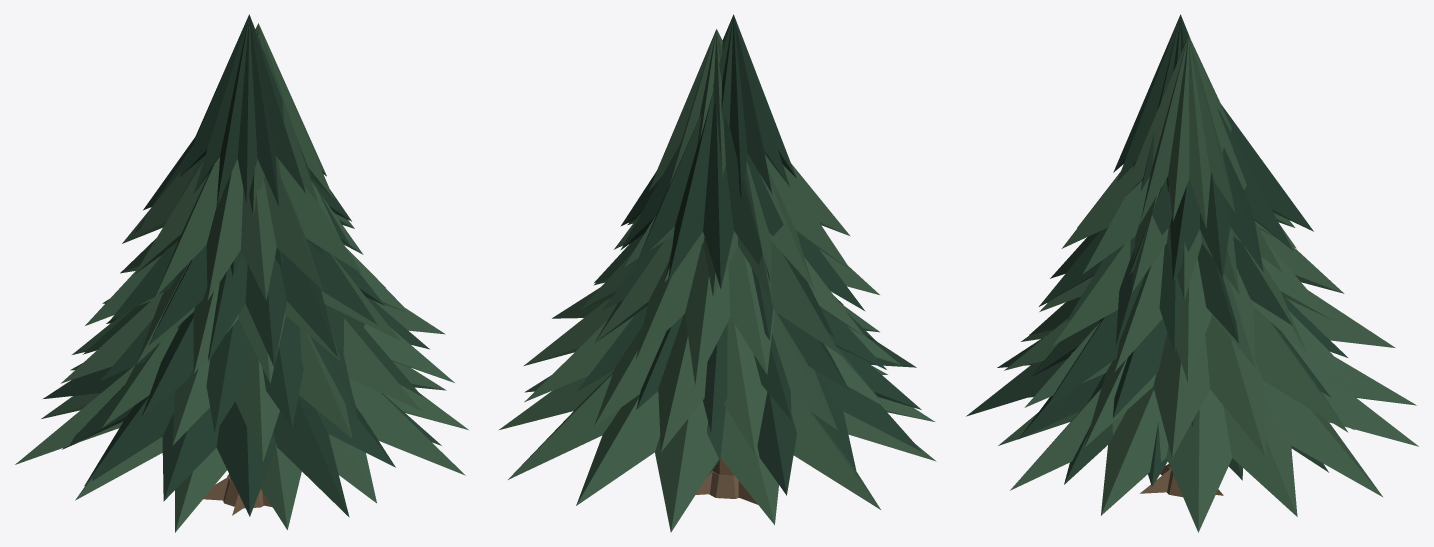
File: tree_pine_02.glb
3 views of the same model, side by side, from view 1: azimuth 30°, elevation 25°; view 2: azimuth 150°, elevation 25°; view 3: azimuth 270°, elevation 25° (orthographic). The views are drawn at different scales.
Parts seen in each view (by area): view 1: tree_pine_02; view 2: tree_pine_02; view 3: tree_pine_02.
Boxes of the visible parts, left/top/right/bottom form: tree_pine_02: left=15, top=14, right=468, bottom=532; tree_pine_02: left=498, top=14, right=936, bottom=532; tree_pine_02: left=966, top=14, right=1418, bottom=532.
Size of what is drawn, in the model's own units: 6.05 by 7.02 by 6.12.
1 material, 1 textured.
